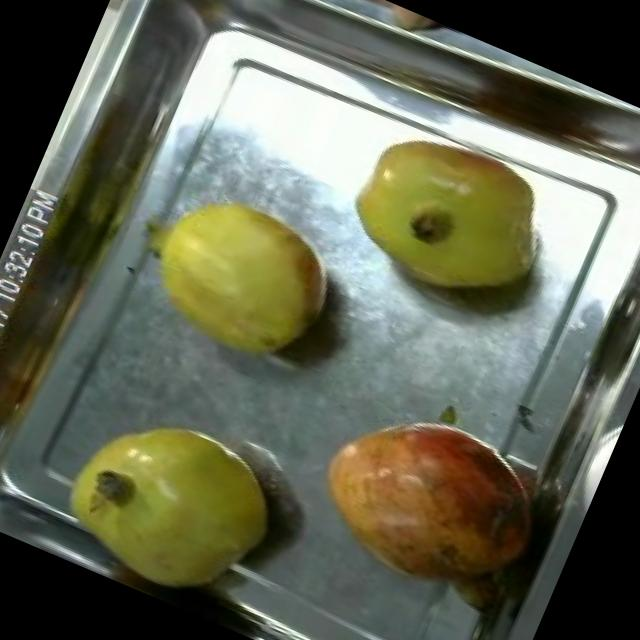fruit: (274, 346, 584, 634), (29, 369, 315, 634), (96, 150, 362, 388), (324, 106, 576, 329)
